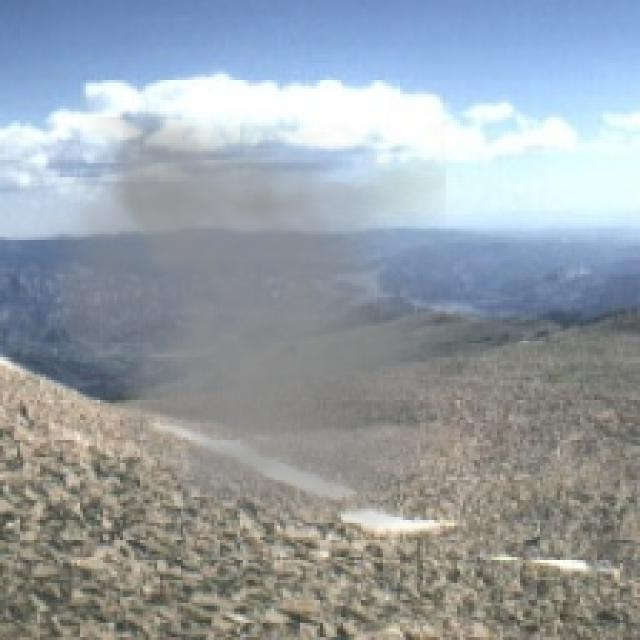smoke: (28, 117, 446, 532)
